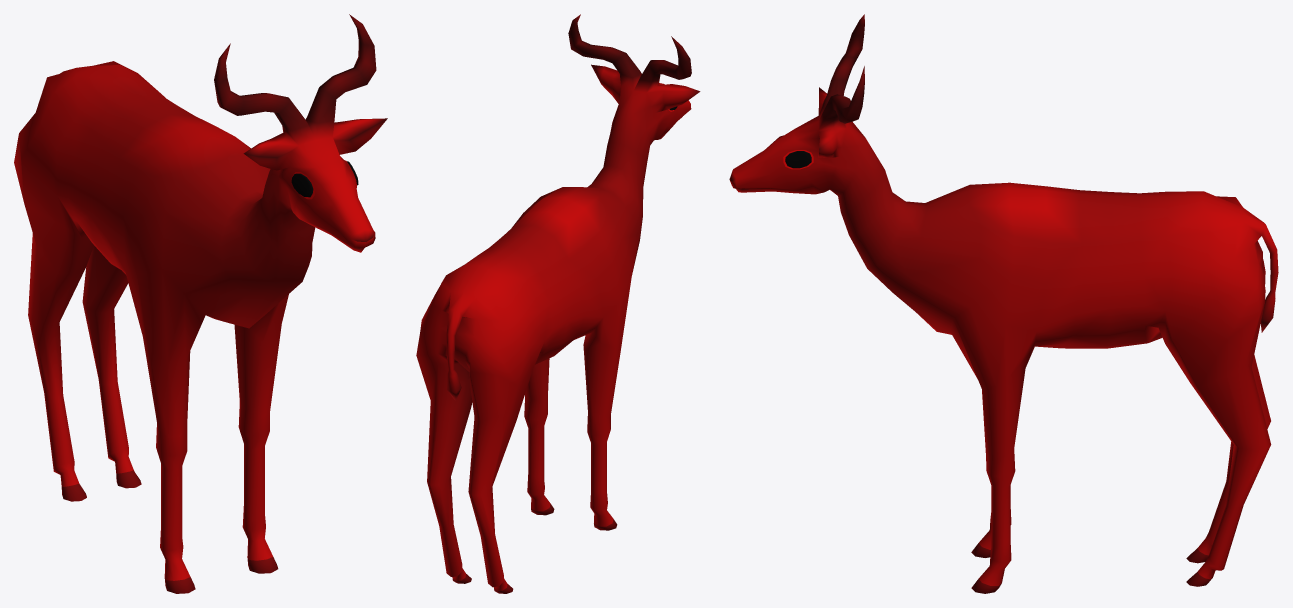
The model's file is Animals_AddraGazelle.fbx.
3 renders of one model, left to right at view 1: azimuth 30°, elevation 25°; view 2: azimuth 150°, elevation 25°; view 3: azimuth 270°, elevation 25°, orthographic. The views are drawn at different scales.
Parts seen in each view (by area): view 1: base; view 2: base; view 3: base.
Part boxes in pixels (bbox=[...]): base: bbox=[14, 14, 387, 593]; base: bbox=[416, 14, 700, 593]; base: bbox=[729, 14, 1278, 593].
Bounding box in the file's own units: 49.49 × 179 × 168.
